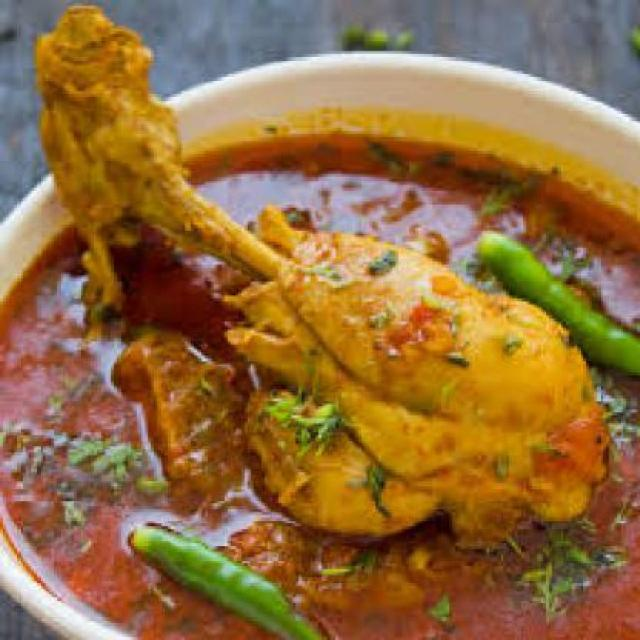CHICKEN CURRY: (0, 0, 638, 638)
